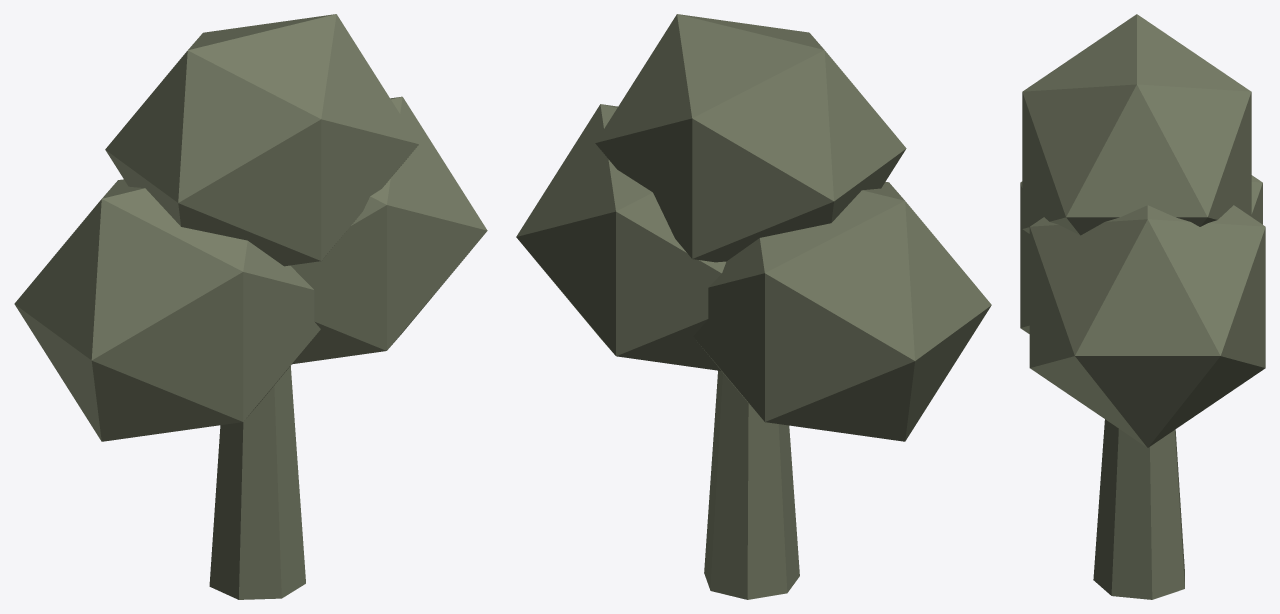
Rendered from test_tree.glb.
3 views of the same model, side by side, from view 1: azimuth 30°, elevation 25°; view 2: azimuth 150°, elevation 25°; view 3: azimuth 270°, elevation 25° (orthographic). The views are drawn at different scales.
Visible parts, largest first — view 1: test_tree; view 2: test_tree; view 3: test_tree.
Boxes of the visible parts, x1,y1,x2,y2 form: test_tree: [14, 14, 487, 599]; test_tree: [516, 14, 991, 599]; test_tree: [1020, 14, 1265, 599].
Size of the model in its own units: 2.88 by 3.78 by 1.58.
